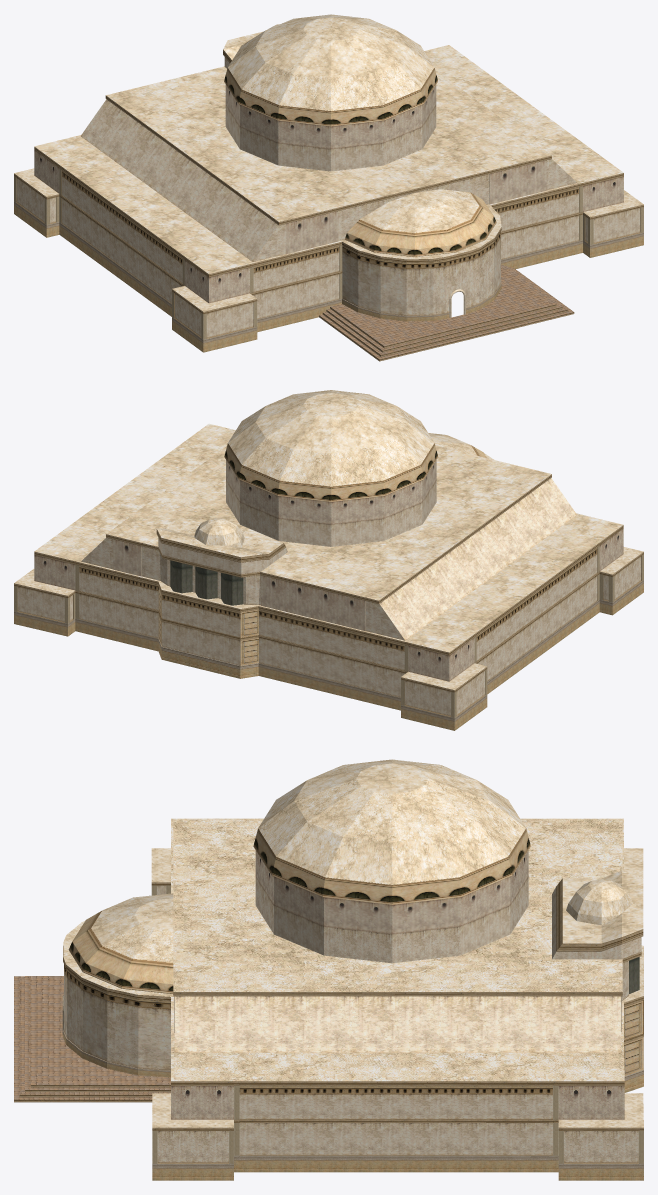
The model's file is mun_tato_hotel_s01_r0_mesh_l0.fbx.
The picture shows the model from 3 angles, top to bottom: view 1: azimuth 30°, elevation 25°; view 2: azimuth 150°, elevation 25°; view 3: azimuth 270°, elevation 25°; orthographic projection. The views are drawn at different scales.
Visible parts, largest first — view 1: mesh_node; view 2: mesh_node; view 3: mesh_node.
Boxes of the visible parts, x1,y1,x2,y2 form: mesh_node: (14,14,643,361); mesh_node: (14,390,643,730); mesh_node: (14,759,643,1180).
Bounding box in the file's own units: 59.59 × 26.33 × 56.85.
